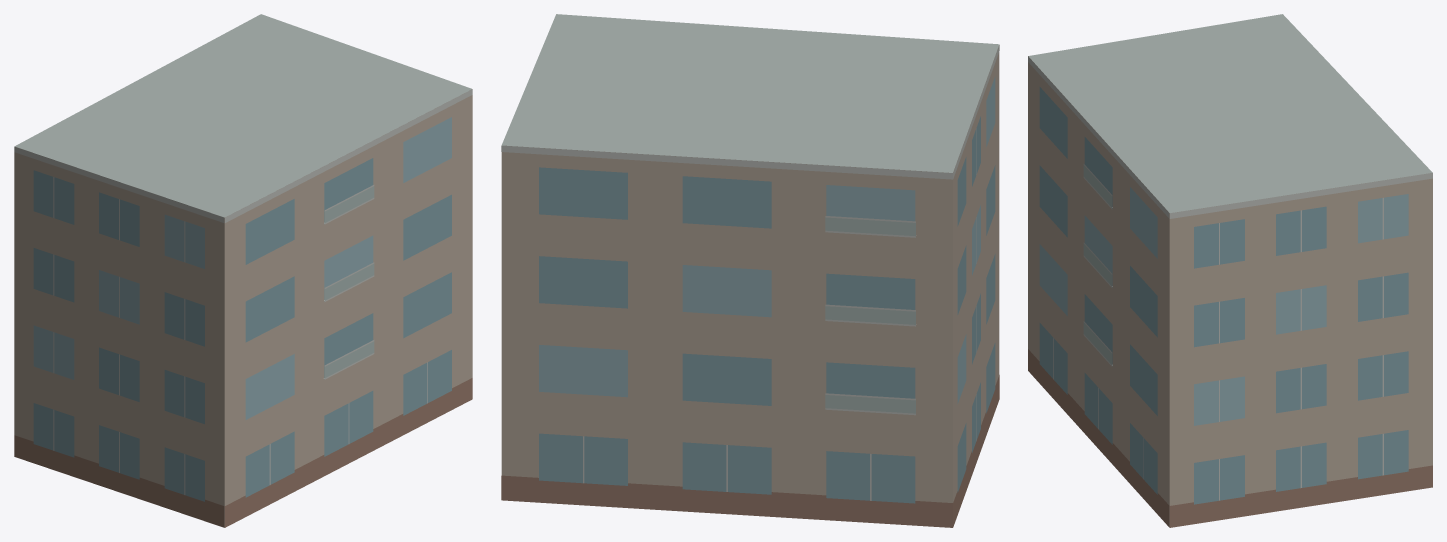
The model's file is survey-upis-32730941.glb.
3 views of the same model, side by side, from view 1: azimuth 30°, elevation 25°; view 2: azimuth 150°, elevation 25°; view 3: azimuth 270°, elevation 25° (orthographic). The views are drawn at different scales.
Visible parts, largest first — view 1: survey-upis-32730941.tmp; view 2: survey-upis-32730941.tmp; view 3: survey-upis-32730941.tmp.
Part boxes in pixels (<box>): survey-upis-32730941.tmp: <box>14,14,472,527</box>; survey-upis-32730941.tmp: <box>501,14,999,527</box>; survey-upis-32730941.tmp: <box>1028,14,1432,527</box>.
Bounding box in the file's own units: 17.91 × 13.18 × 15.38.
